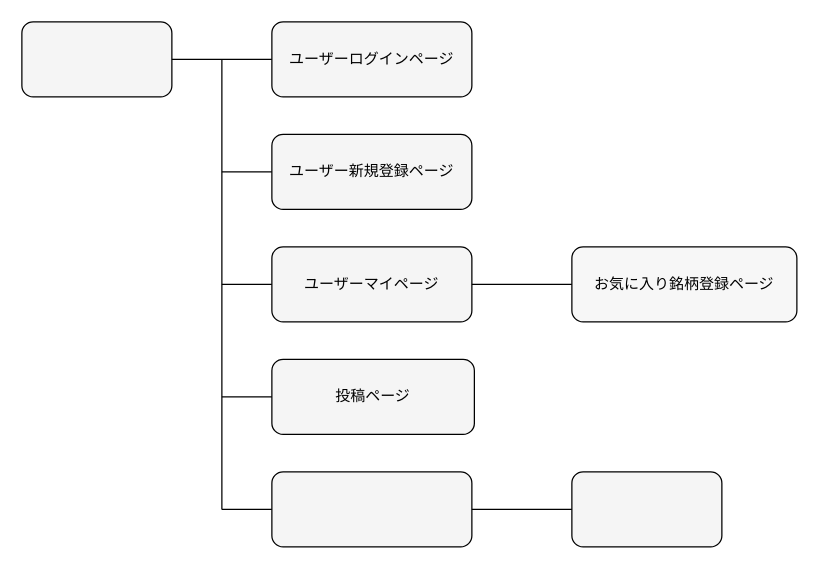
This 819x569 diagram has some shape labels left out. The centre of each missing label's shape, as x and y in pixels:
一覧ページ: point (96, 59)
編集ページ: point (646, 509)
詳細ページ: point (371, 509)
